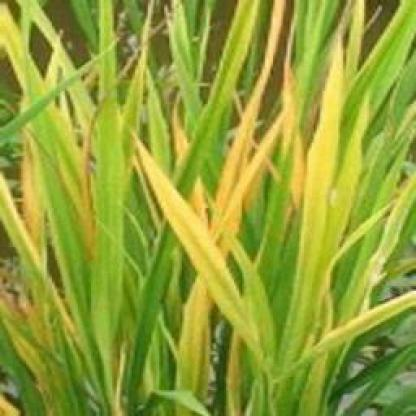Tungro: (135, 130, 268, 359), (287, 6, 377, 321), (217, 3, 302, 211), (3, 167, 80, 328), (315, 292, 416, 359)
